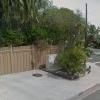Tree: (9, 1, 100, 51)
